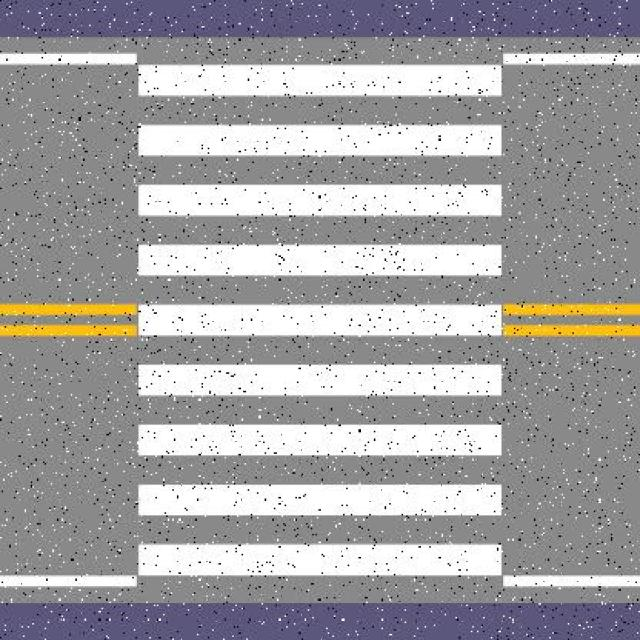intact_crosswalk: (134, 59, 504, 581)
